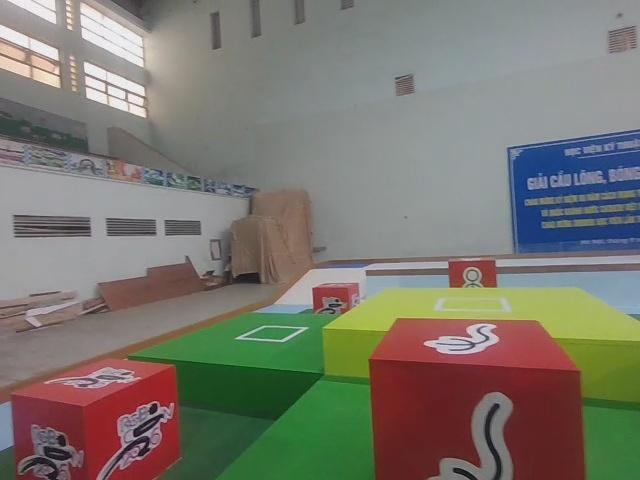R1: (6, 356, 186, 480), (311, 280, 362, 322)
R2 Real: (359, 315, 588, 480)
